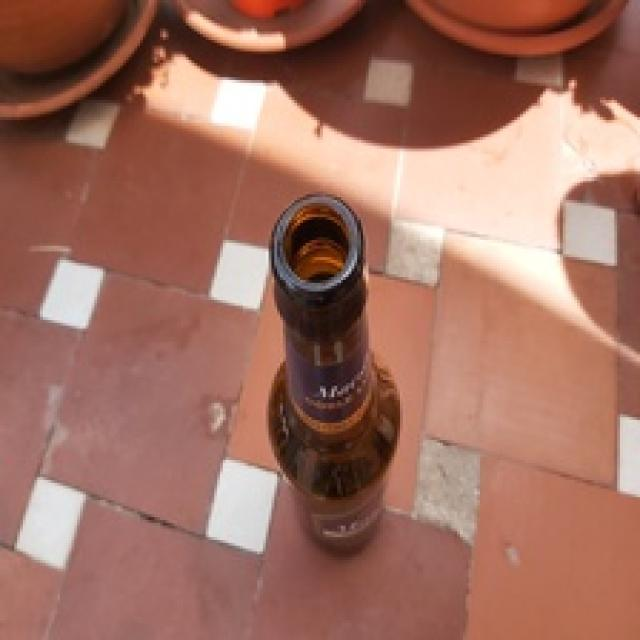Glass: (268, 190, 402, 552)
